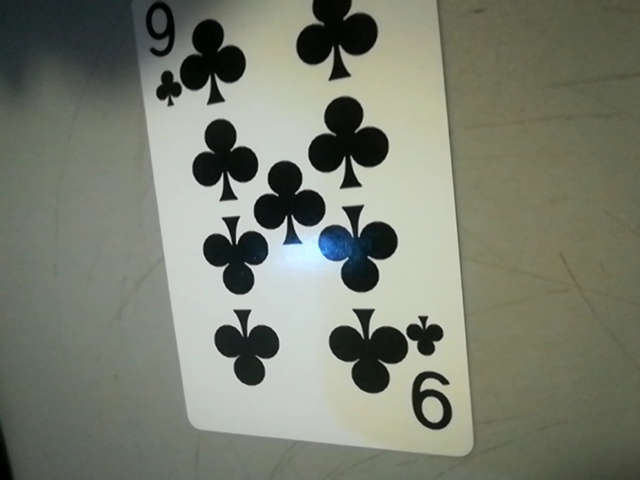mh 9: (400, 306, 466, 439)
